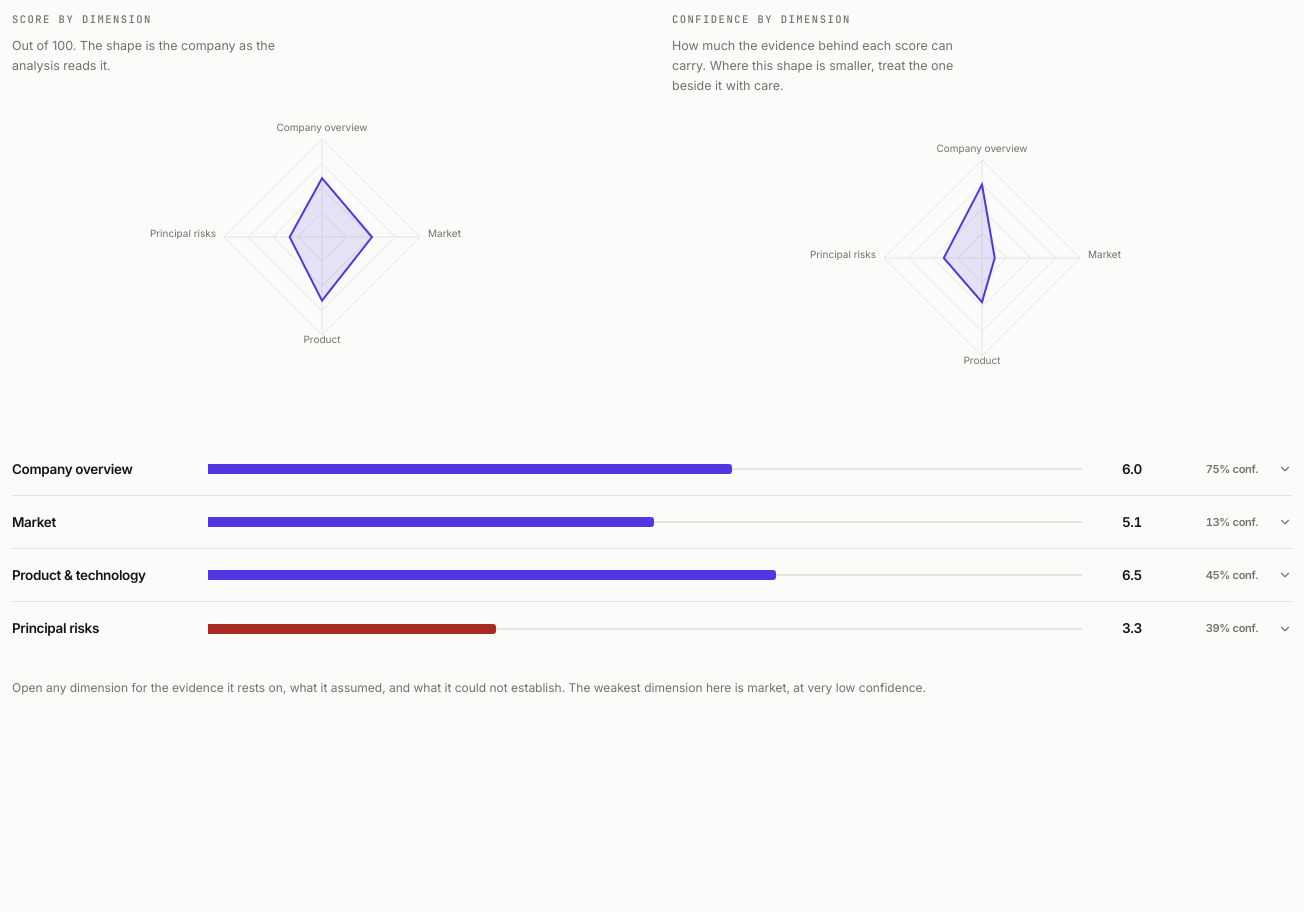
Scenario: scenarios and dimensions › shows score and confidence as separate charts, and opens a dimension onto its evidence
Check: the text "Score by dimension" is shown, box top-left (12, 12), bottom-right (152, 26)
Check: the text "Confidence by dimension" is shown, box top-left (672, 12), bottom-right (851, 26)
Click the button "Market 5.1 13% conf.". click: (652, 522)
box: top-left (12, 496), bottom-right (1292, 548)
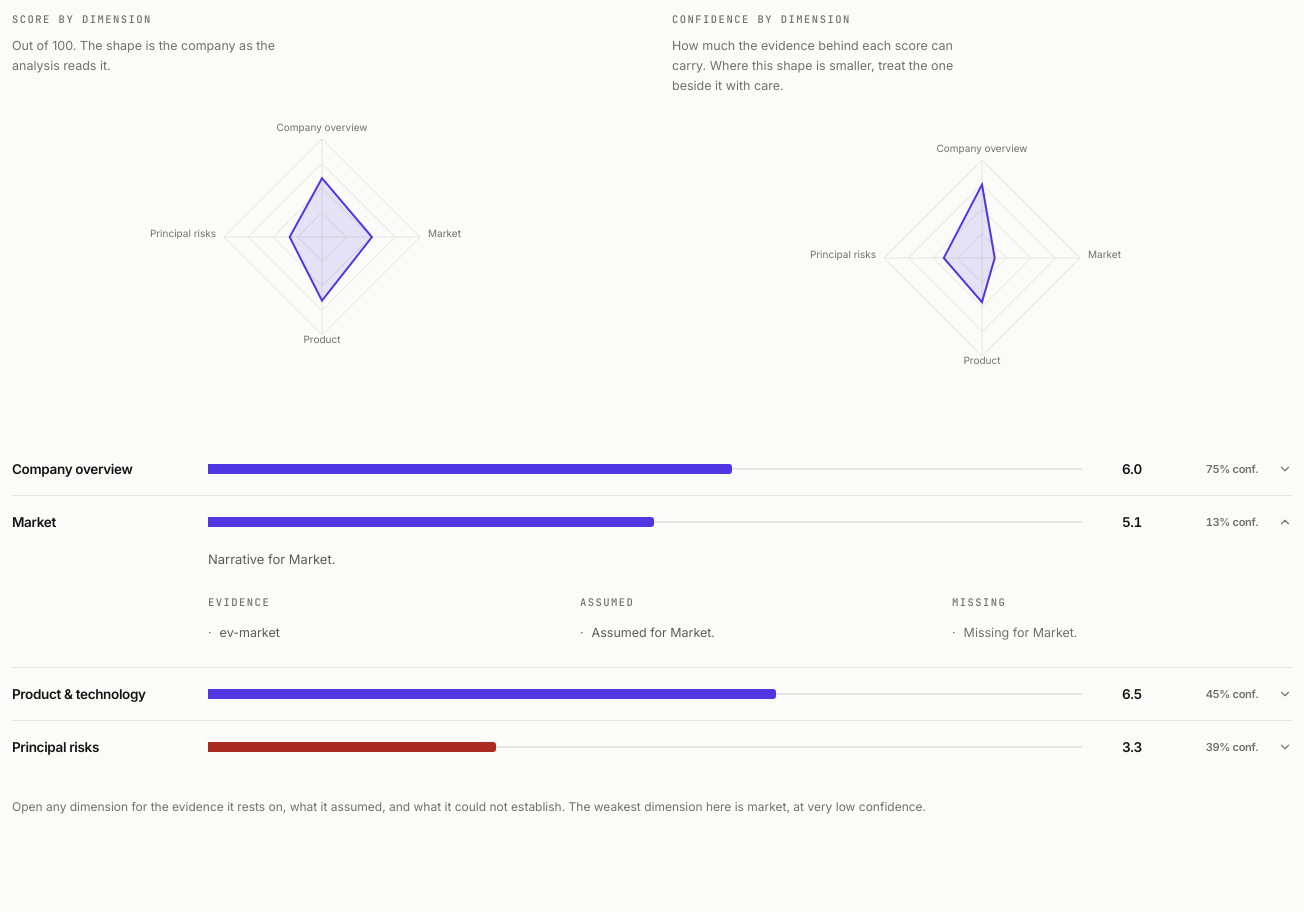
Check: the text "Narrative for Market." is shown, box top-left (208, 551), bottom-right (335, 567)
Check: the text "Missing for Market." is shown, box top-left (964, 623), bottom-right (1078, 643)
